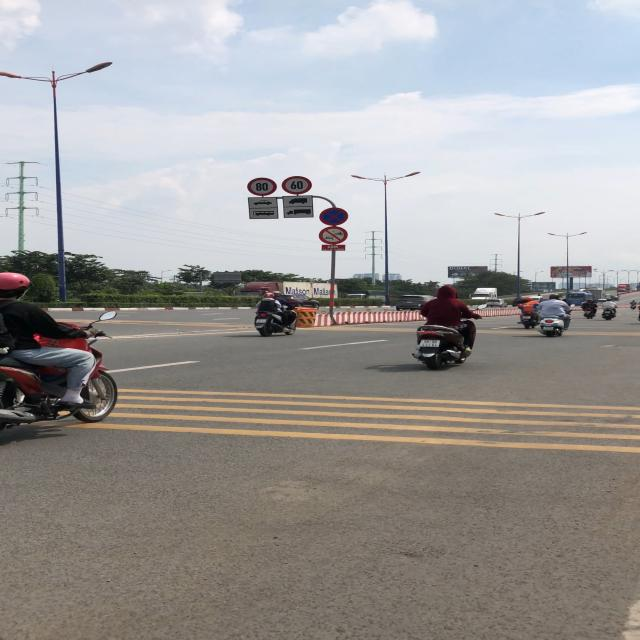Bien bao cam dung xe va do xe: (320, 207, 350, 226)
Bien bao toc do toi da cho phep: (246, 176, 279, 196), (282, 175, 312, 195)
